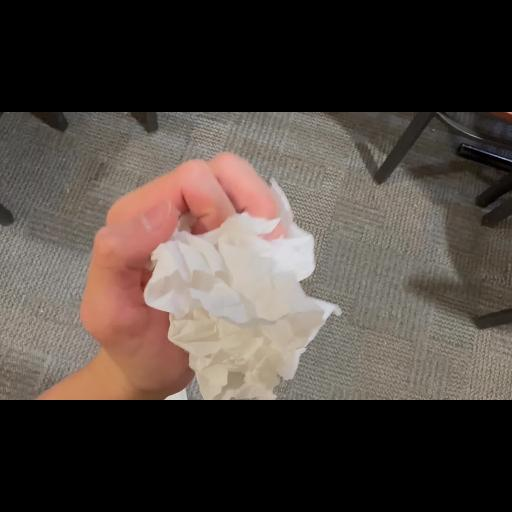napkin: (140, 176, 346, 400)
